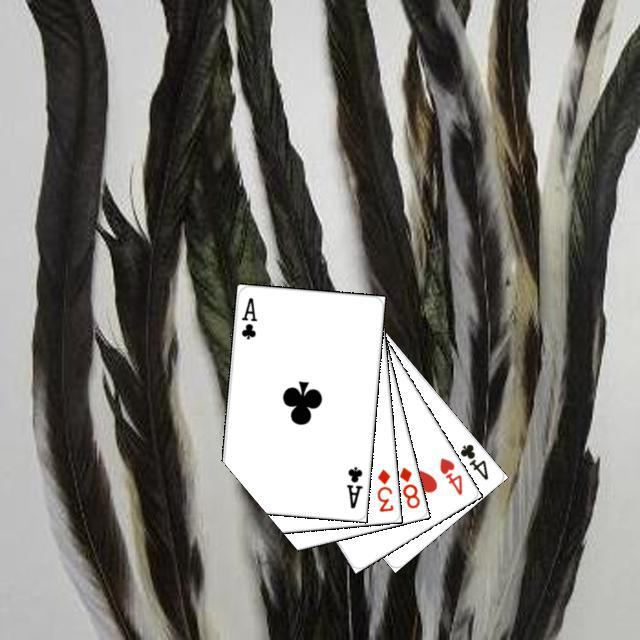3d: (372, 464, 395, 514)
4c: (455, 439, 490, 482)
4h: (434, 453, 464, 497)
8d: (394, 462, 422, 510)
Ac: (237, 292, 259, 341), (342, 462, 364, 510)
